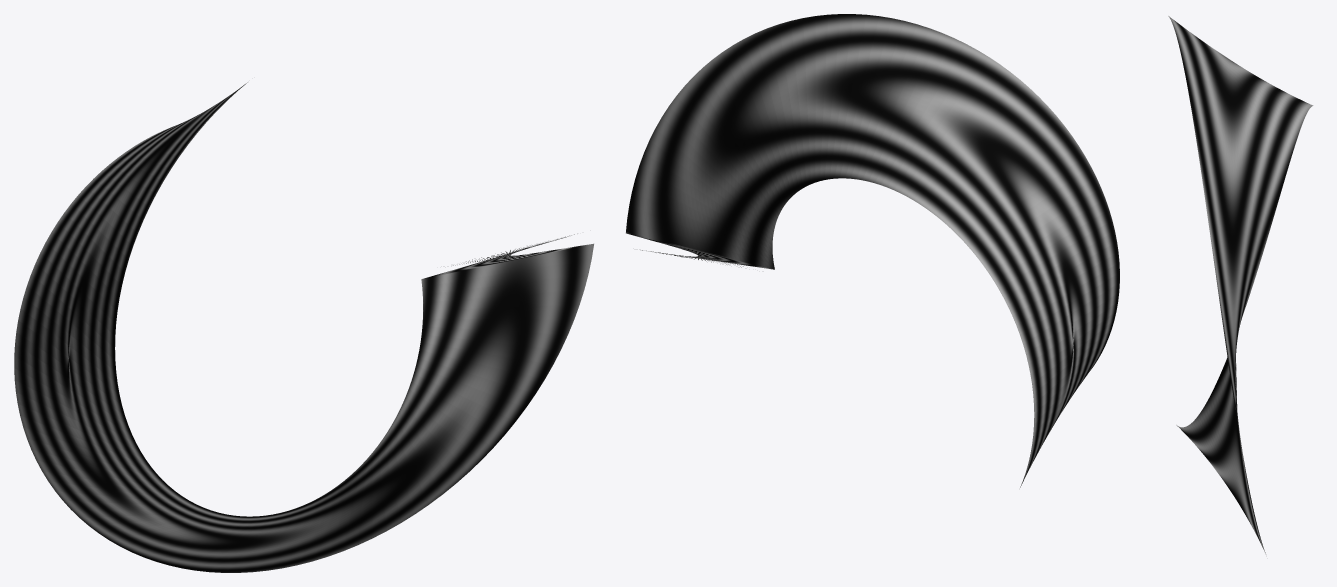
Rendered from mobius-wide.glb.
3 views of the same model, side by side, from view 1: azimuth 30°, elevation 25°; view 2: azimuth 150°, elevation 25°; view 3: azimuth 270°, elevation 25° (orthographic). The views are drawn at different scales.
Parts seen in each view (by area): view 1: world; view 2: world; view 3: world.
Boxes of the visible parts, bbox=[...] form: world: bbox=[14, 82, 593, 572]; world: bbox=[626, 14, 1119, 487]; world: bbox=[1168, 16, 1313, 553].
Size of the model in its own units: 2.42 by 2.58 by 0.8.
Materials: 1 (1 with a texture image).
